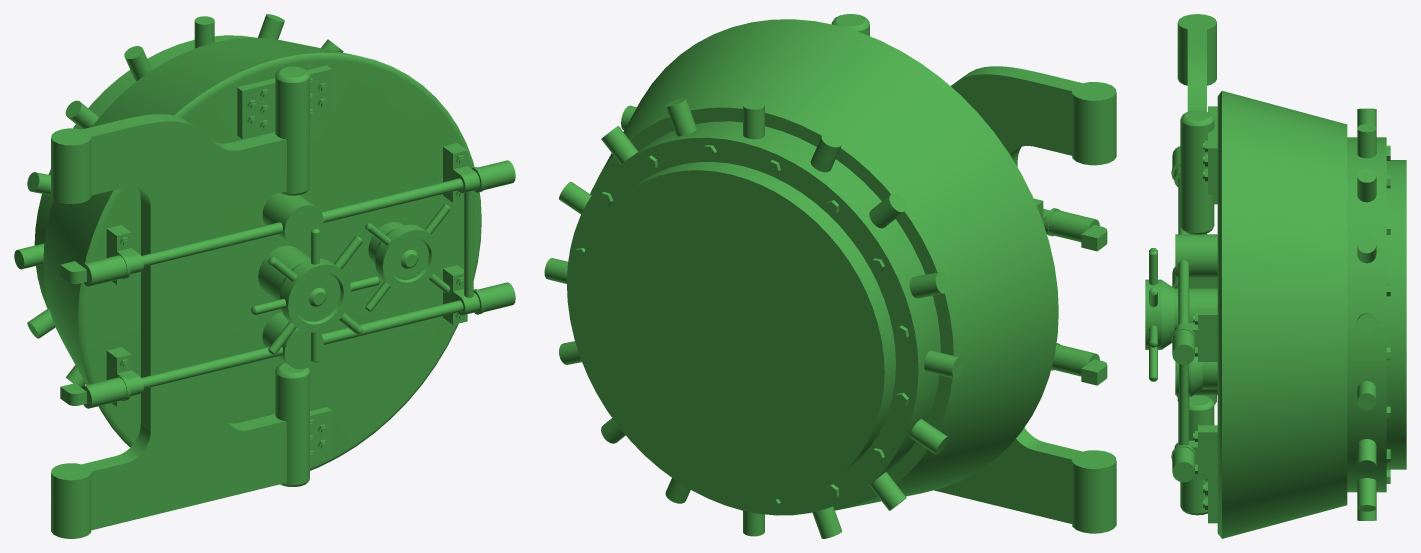
Rendered from SM_Bank_Vault_01a.FBX.
3 views of the same model, side by side, from view 1: azimuth 30°, elevation 25°; view 2: azimuth 150°, elevation 25°; view 3: azimuth 270°, elevation 25° (orthographic). The views are drawn at different scales.
Parts seen in each view (by area): view 1: SM_Bank_Vault_01a_LOD0; view 2: SM_Bank_Vault_01a_LOD0; view 3: SM_Bank_Vault_01a_LOD0.
Boxes of the visible parts, <box> form: SM_Bank_Vault_01a_LOD0: <box>14,14,515,538</box>; SM_Bank_Vault_01a_LOD0: <box>544,14,1116,538</box>; SM_Bank_Vault_01a_LOD0: <box>1145,14,1406,538</box>.
Size of what is drawn, in the model's own units: 299 by 269 by 156.
